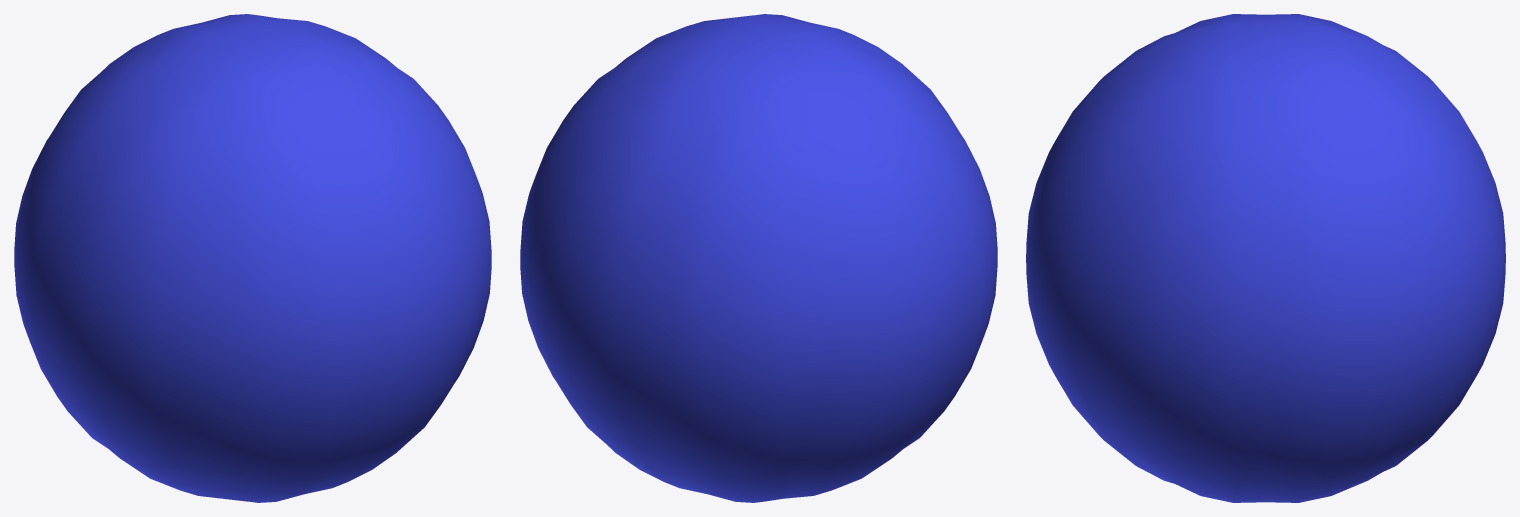
The model's file is basketball_low.fbx.
3 renders of one model, left to right at view 1: azimuth 30°, elevation 25°; view 2: azimuth 150°, elevation 25°; view 3: azimuth 270°, elevation 25°, orthographic.
Visible parts, largest first — view 1: ball_low; view 2: ball_low; view 3: ball_low.
Boxes of the visible parts, x1=… form: ball_low: x1=14, y1=14, x2=491, y2=502; ball_low: x1=520, y1=14, x2=997, y2=502; ball_low: x1=1026, y1=14, x2=1505, y2=502.
Size of the model in its own units: 1.48 by 1.51 by 1.48.
